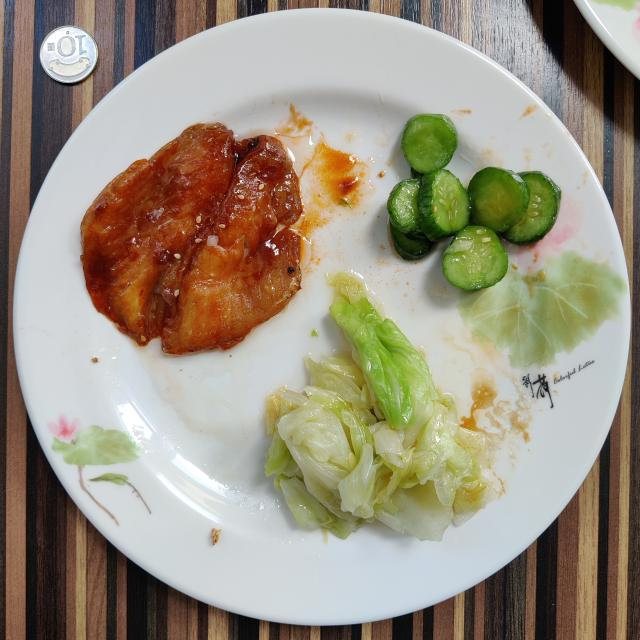Kabayaki sea bream fillet: (81, 124, 302, 354)
cabbage: (265, 279, 495, 540)
coin: (40, 26, 99, 84)
cucumber: (388, 114, 561, 290)
